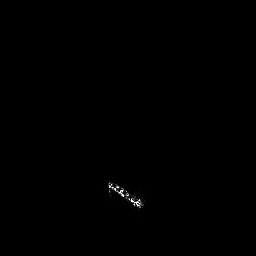ship: (106, 179, 146, 210)
